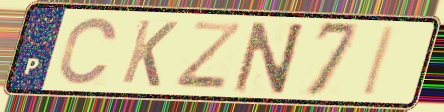7: (307, 19, 360, 100)
C: (56, 15, 121, 88)
I: (358, 24, 399, 100)
K: (117, 17, 181, 90)
N: (230, 19, 309, 95)
Z: (171, 19, 245, 92)
